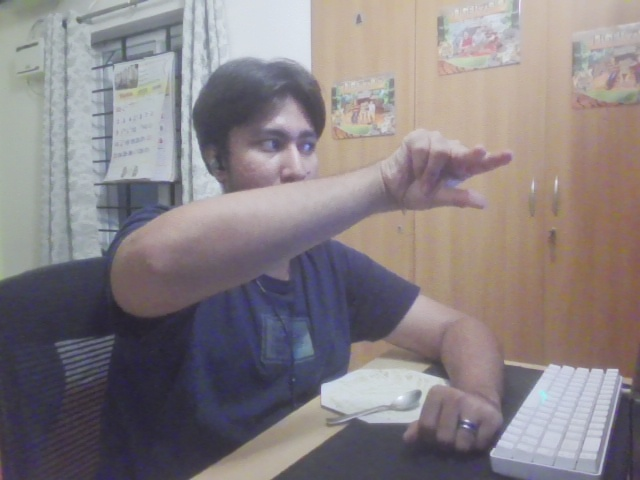no: (379, 123, 521, 228)
